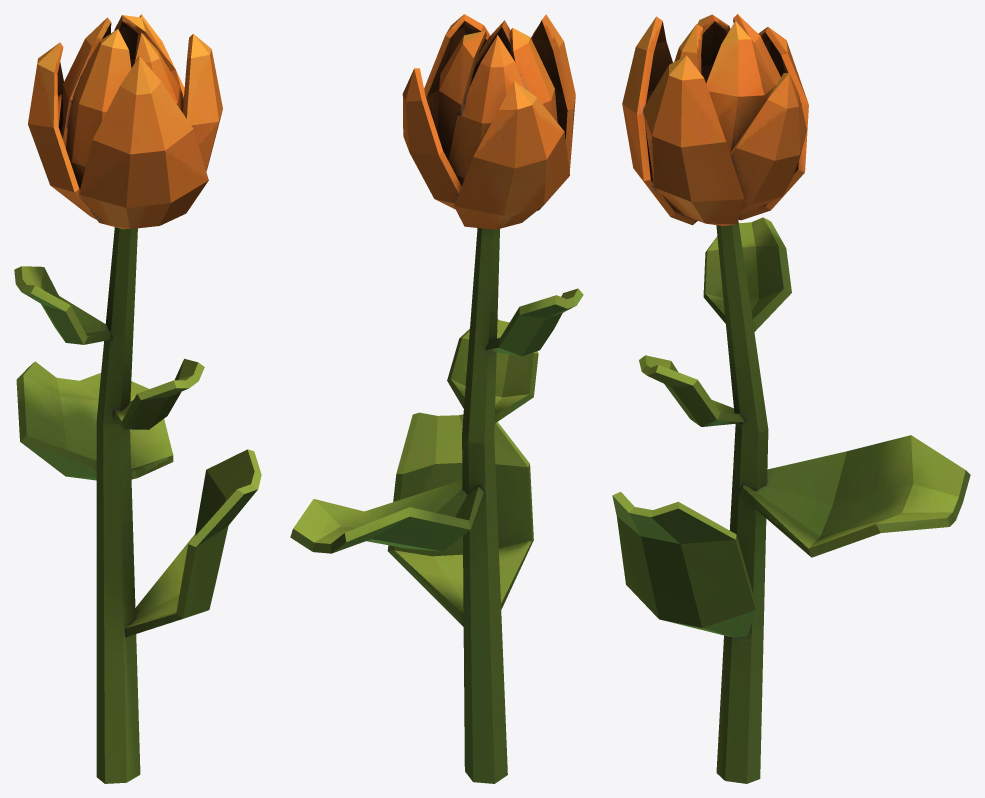
The model's file is tulip.glb.
The picture shows the model from 3 angles, left to right: view 1: azimuth 30°, elevation 25°; view 2: azimuth 150°, elevation 25°; view 3: azimuth 270°, elevation 25°; orthographic projection. The views are drawn at different scales.
Visible parts, largest first — view 1: tulip; view 2: tulip; view 3: tulip.
Boxes of the visible parts, x1,y1,x2,y2 form: tulip: [14, 14, 261, 783]; tulip: [290, 14, 583, 783]; tulip: [612, 14, 970, 783].
Size of the model in its own units: 0.1124 by 0.4 by 0.1712.
Materials: 1 (1 with a texture image).
